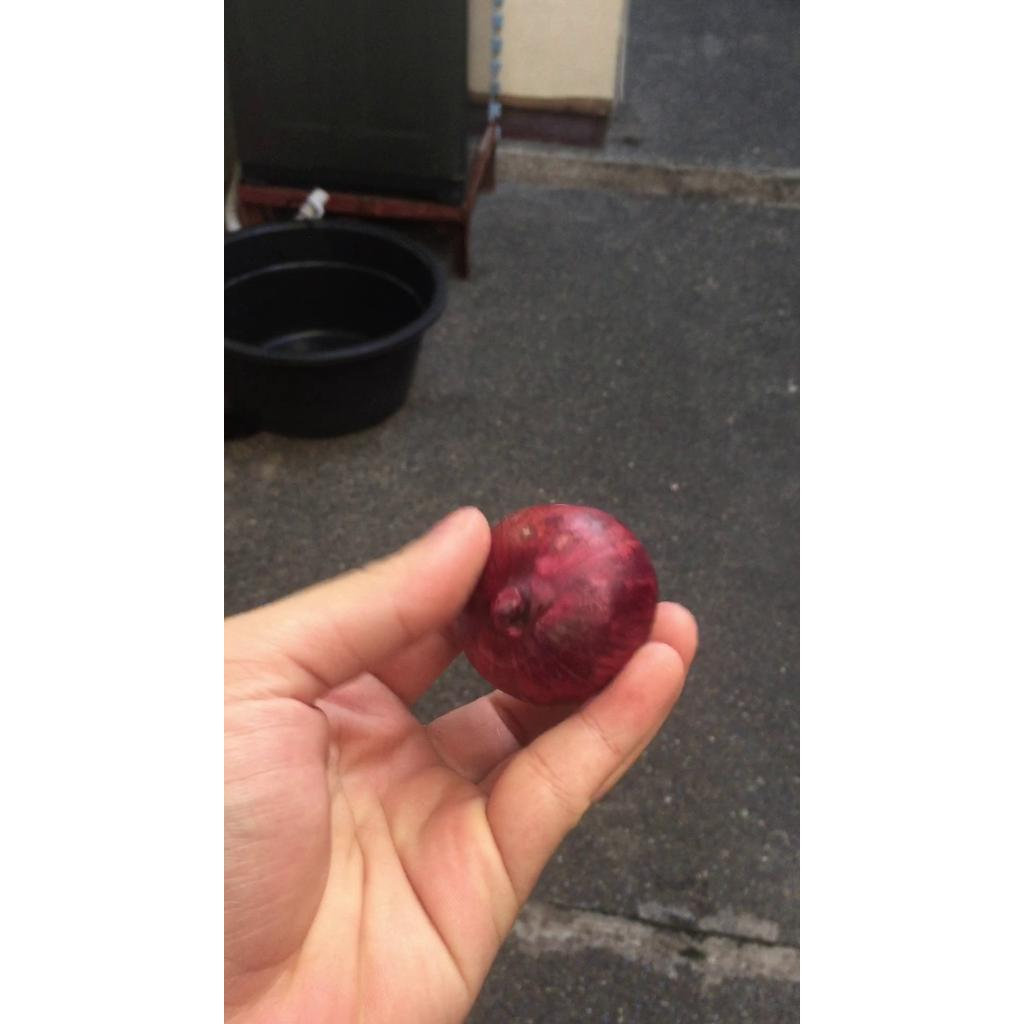Onion: (459, 505, 657, 705)
